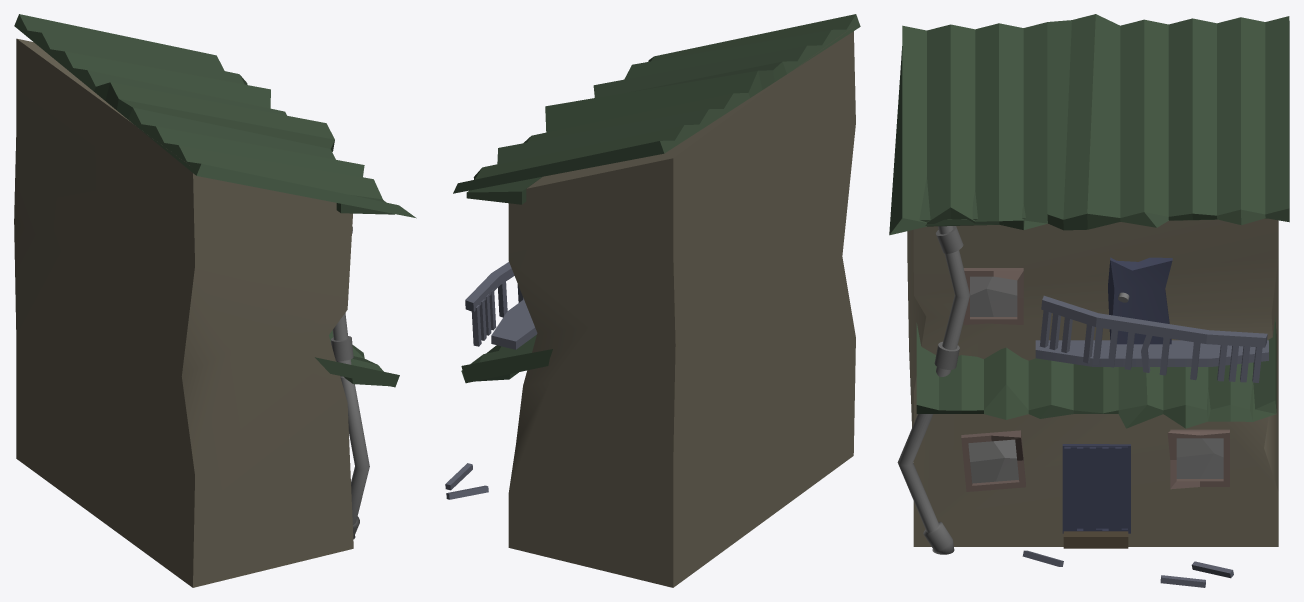
Rendered from PLAYER HOUSE DAMAGED green roof.fbx.
3 renders of one model, left to right at view 1: azimuth 30°, elevation 25°; view 2: azimuth 150°, elevation 25°; view 3: azimuth 270°, elevation 25°, orthographic. The views are drawn at different scales.
Parts seen in each view (by area): view 1: pCube36, pCube7, pCylinder5, pCube3; view 2: pCube36, pCube7, pCube33, pCube3, pCube30; view 3: pCube7, pCube36, pCube3, pCube33, pCube28, pCube5, pCube4, pCube29, pCube8, pCube35, pCylinder5, pCylinder1 (+3 smaller).
Part boxes in pixels (bbox=[...]): pCube36: bbox=[14, 38, 353, 587]; pCube7: bbox=[14, 14, 416, 218]; pCylinder5: bbox=[340, 377, 369, 524]; pCube3: bbox=[315, 330, 399, 387]; pCube36: bbox=[508, 27, 855, 587]; pCube7: bbox=[453, 14, 860, 193]; pCube33: bbox=[445, 262, 537, 499]; pCube3: bbox=[461, 334, 552, 383]; pCube30: bbox=[466, 177, 541, 204]; pCube7: bbox=[889, 14, 1289, 235]; pCube36: bbox=[907, 218, 1278, 546]; pCube3: bbox=[916, 315, 1276, 428]; pCube33: bbox=[1022, 295, 1268, 587]; pCube28: bbox=[1108, 257, 1172, 344]; pCube5: bbox=[1167, 429, 1229, 489]; pCube4: bbox=[961, 430, 1025, 491]; pCube29: bbox=[1064, 446, 1127, 530]; pCube8: bbox=[963, 268, 1023, 324]; pCube35: bbox=[1062, 444, 1130, 533]; pCylinder5: bbox=[897, 414, 939, 532]; pCylinder1: bbox=[936, 226, 970, 376].
Bounding box in the file's own units: 0.1025 × 0.1658 × 0.1322.
